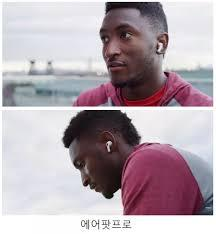earphone: (154, 38, 168, 55), (104, 137, 113, 152)
